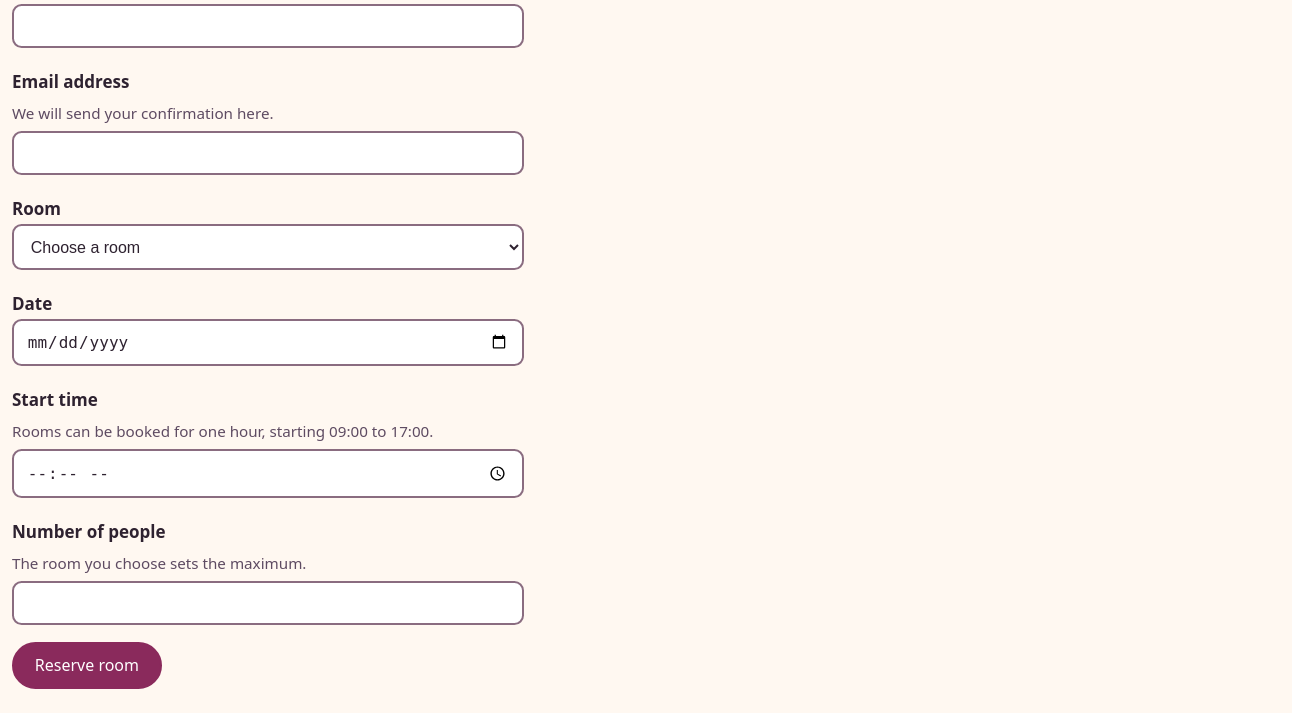
Booking Form › shows linked errors, sets aria-invalid and moves focus on a bad submit
This screenshot has width=1292, height=713.
(page scrolled)
Click the button "Reserve room" at (87, 665), box [12, 642, 162, 689]
(page scrolled)
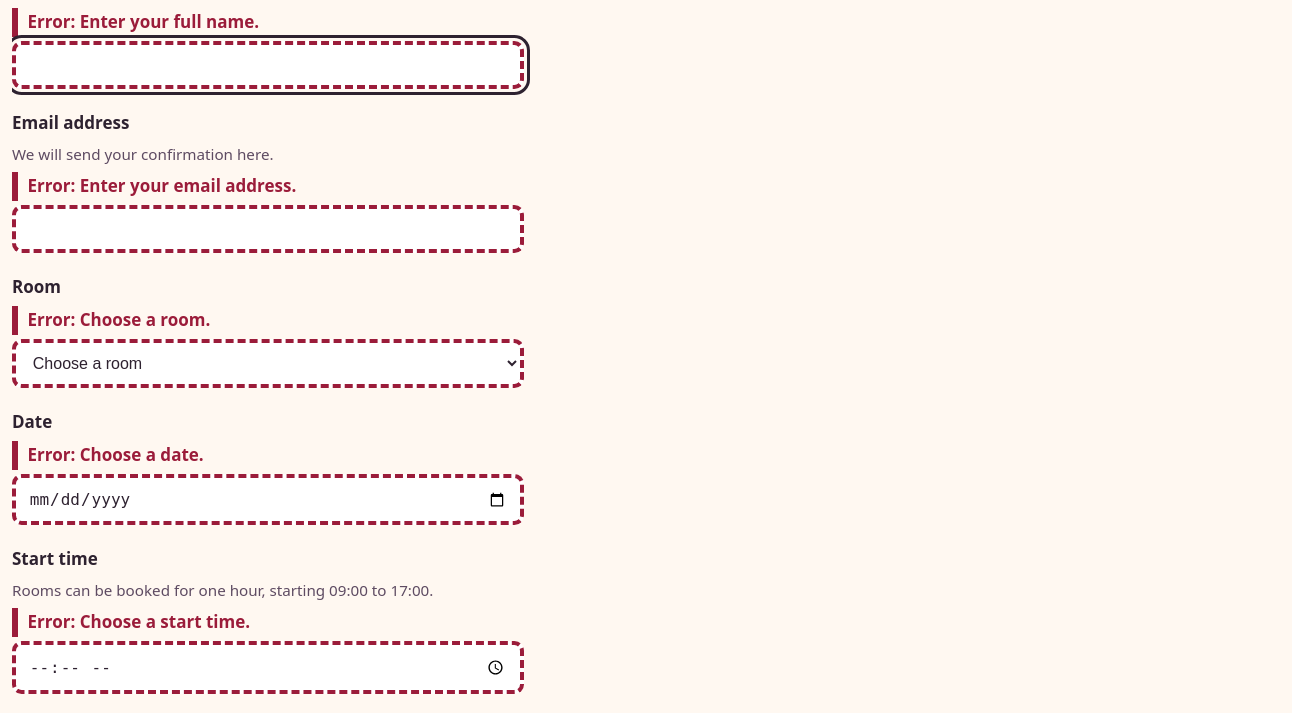
Expected: the text "Error: Enter your full name." is shown, [12, 8, 1291, 37]
